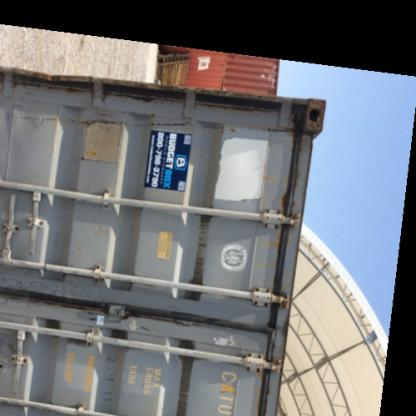Damage: (260, 98, 300, 214), (58, 107, 136, 159), (72, 303, 190, 332), (4, 272, 68, 312), (96, 336, 122, 412), (187, 221, 219, 276), (70, 211, 115, 244), (172, 365, 200, 408)
